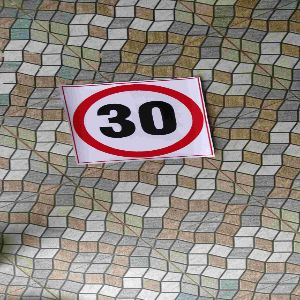speedlimit30: (68, 84, 212, 158)
